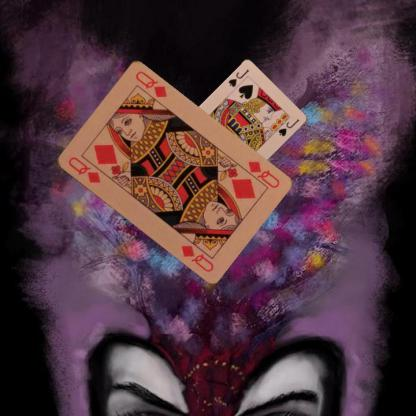Js: (226, 66, 250, 88)
Qd: (237, 156, 281, 190), (65, 154, 103, 186)
